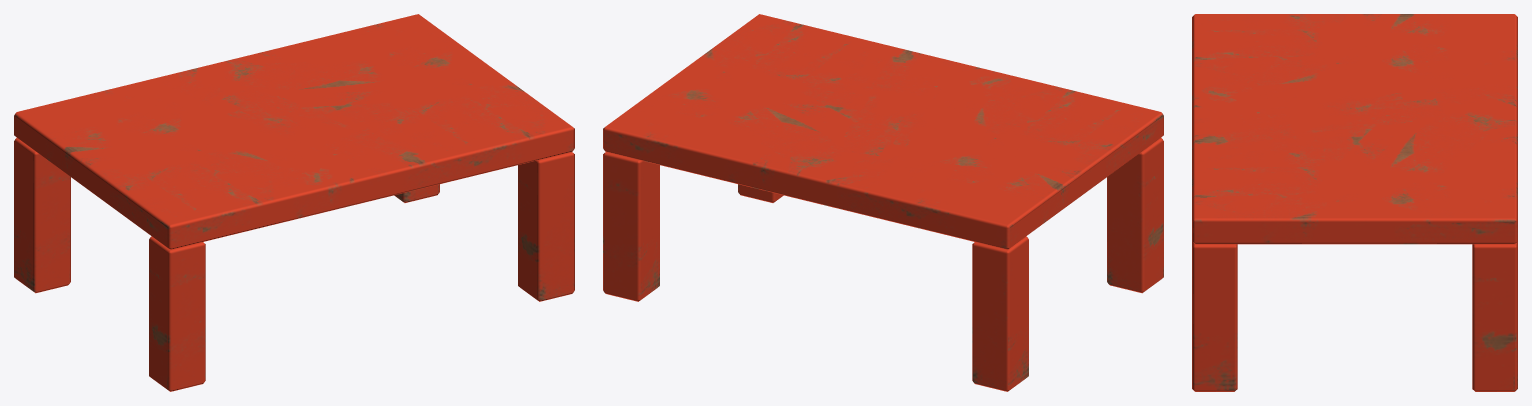
File: table.glb
3 renders of one model, left to right at view 1: azimuth 30°, elevation 25°; view 2: azimuth 150°, elevation 25°; view 3: azimuth 270°, elevation 25°, orthographic. The views are drawn at different scales.
Parts seen in each view (by area): view 1: table_low; view 2: table_low; view 3: table_low.
Part boxes in pixels (x1,y1,x2,y2): table_low: (14,14,574,391); table_low: (603,14,1163,391); table_low: (1192,14,1517,391).
Size of the model in its own units: 1.5 by 0.59 by 1.
1 material, 1 textured.
